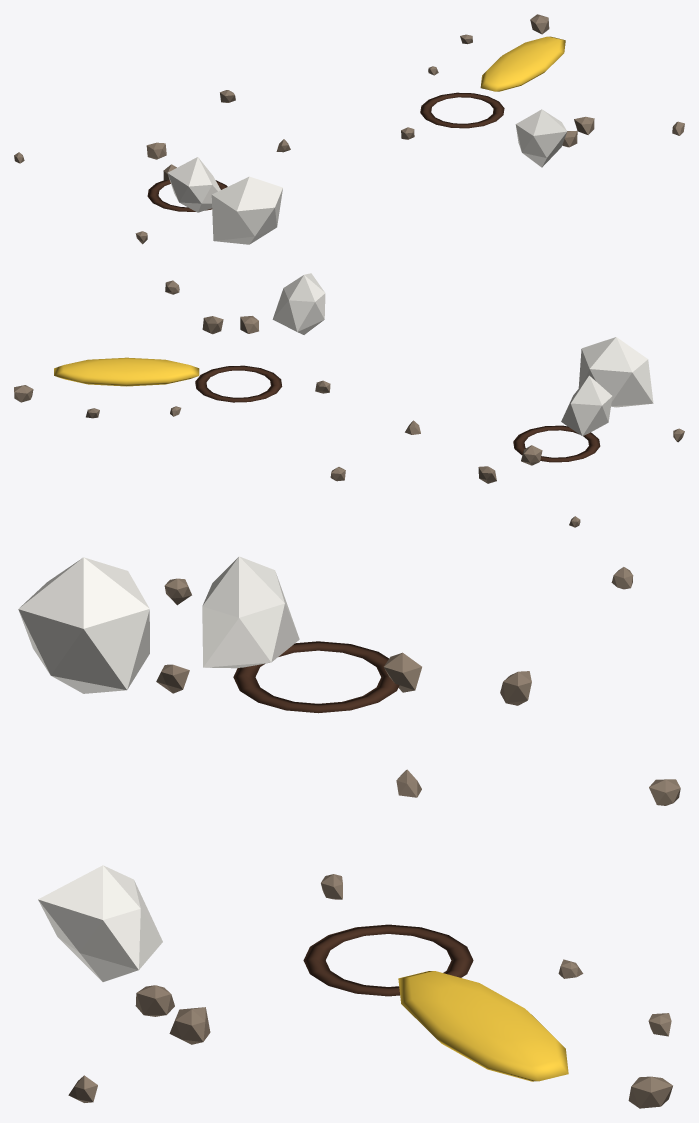
Rendered from DeskDirt.fbx.
The picture shows the model from 3 angles, top to bottom: view 1: azimuth 30°, elevation 25°; view 2: azimuth 150°, elevation 25°; view 3: azimuth 270°, elevation 25°; orthographic projection. The views are drawn at different scales.
Parts seen in each view (by area): view 1: PaperBall.001, BananaPeel, PaperBall.002, PaperBall, Ring.003, Ring.004; view 2: PaperBall.001, BananaPeel, PaperBall.002, PaperBall, Ring.003, Ring.004; view 3: PaperBall.001, BananaPeel, PaperBall.002, PaperBall, Ring.003, Ring.004, Crumb.005, Crumb.012, Crumb.009, Crumb.013, Crumb.008.
Part boxes in pixels (x1,y1,x2,y2): PaperBall.001: (211, 176, 282, 244); BananaPeel: (480, 36, 565, 91); PaperBall.002: (515, 109, 567, 167); PaperBall: (167, 157, 220, 212); Ring.003: (420, 92, 504, 128); Ring.004: (147, 180, 227, 211); PaperBall.001: (578, 337, 653, 407); BananaPeel: (54, 357, 199, 386); PaperBall.002: (272, 273, 325, 334); PaperBall: (561, 375, 612, 435); Ring.003: (195, 365, 282, 402); Ring.004: (513, 425, 600, 462); PaperBall.001: (18, 557, 149, 693); BananaPeel: (398, 971, 568, 1081); PaperBall.002: (38, 865, 162, 981); PaperBall: (202, 556, 299, 668); Ring.003: (303, 924, 473, 996); Ring.004: (233, 641, 399, 713); Crumb.005: (169, 1007, 210, 1044); Crumb.012: (628, 1076, 672, 1108); Crumb.009: (384, 652, 421, 692); Crumb.013: (135, 985, 174, 1016); Crumb.008: (500, 671, 531, 705).
Size of the model in its own units: 0.675 by 0.0815 by 0.3583.
